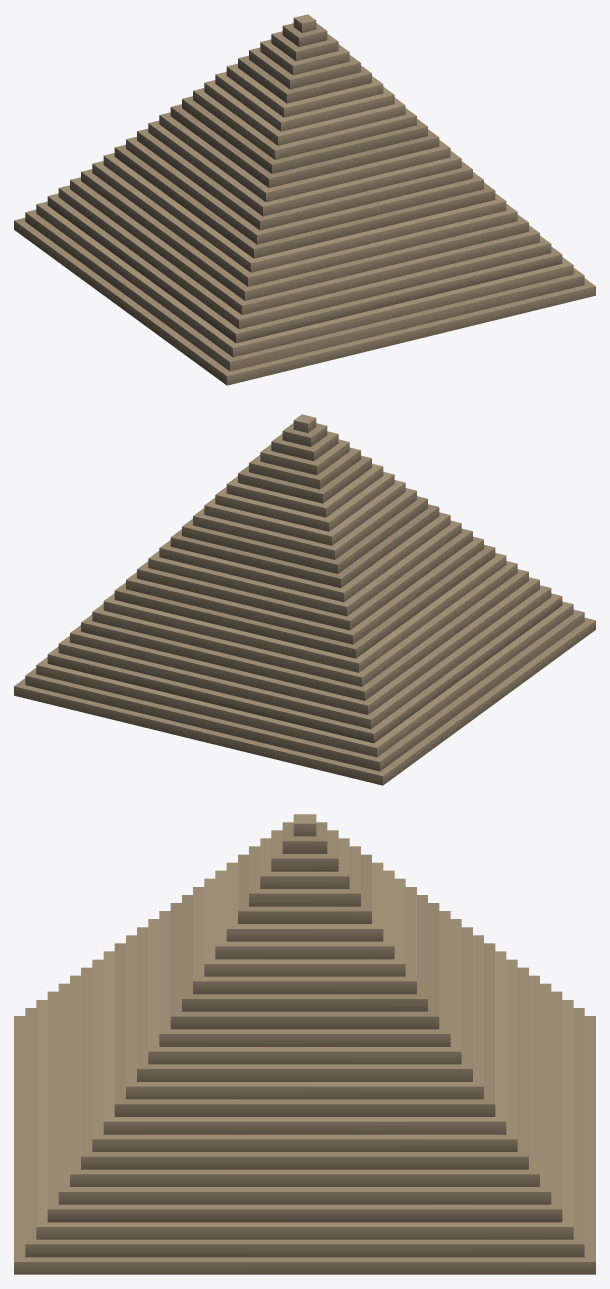
File: mykerinos.glb
3 renders of one model, top to bottom at view 1: azimuth 30°, elevation 25°; view 2: azimuth 150°, elevation 25°; view 3: azimuth 270°, elevation 25°, orthographic. The views are drawn at different scales.
Parts seen in each view (by area): view 1: lack; view 2: lack; view 3: lack.
Part boxes in pixels (x1,y1,x2,y2): lack: (14,14,595,385); lack: (14,414,595,785); lack: (14,814,595,1274).
Bounding box in the file's own units: 103 × 65 × 103.
